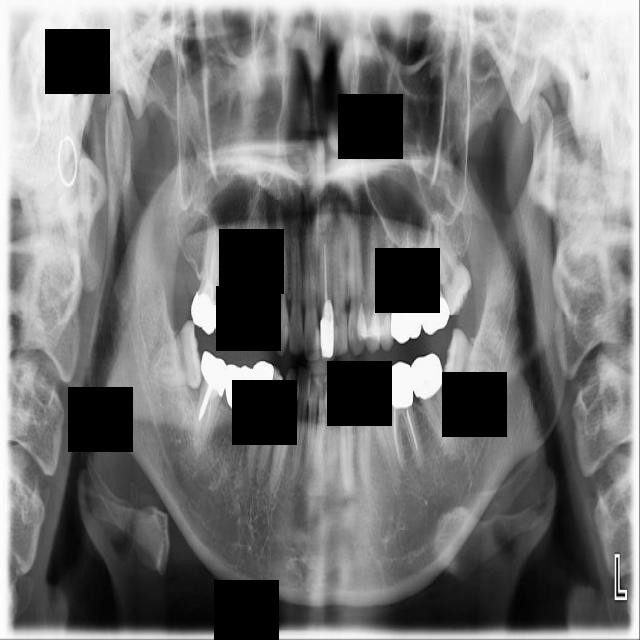52: (403, 350, 451, 402), (411, 288, 456, 337), (376, 360, 416, 410), (221, 363, 254, 415), (188, 285, 220, 337), (214, 299, 246, 348), (390, 297, 422, 344), (201, 350, 228, 399), (240, 295, 262, 347), (320, 303, 337, 361), (251, 360, 274, 398)
73: (394, 211, 428, 303), (188, 378, 224, 462), (384, 405, 425, 473), (198, 215, 224, 300), (316, 228, 332, 304), (243, 226, 258, 299), (588, 588, 602, 603)
BioHorizons Implant: (420, 212, 450, 335)
BioLife Implant: (422, 210, 480, 317)
Biomet 3i Implant: (439, 326, 505, 403)
Blue Sky Bio Implant: (407, 351, 459, 463)
Caries: (188, 214, 225, 336)
Implant: (190, 350, 230, 461)
Keystone Dental Implant: (142, 319, 205, 394)
